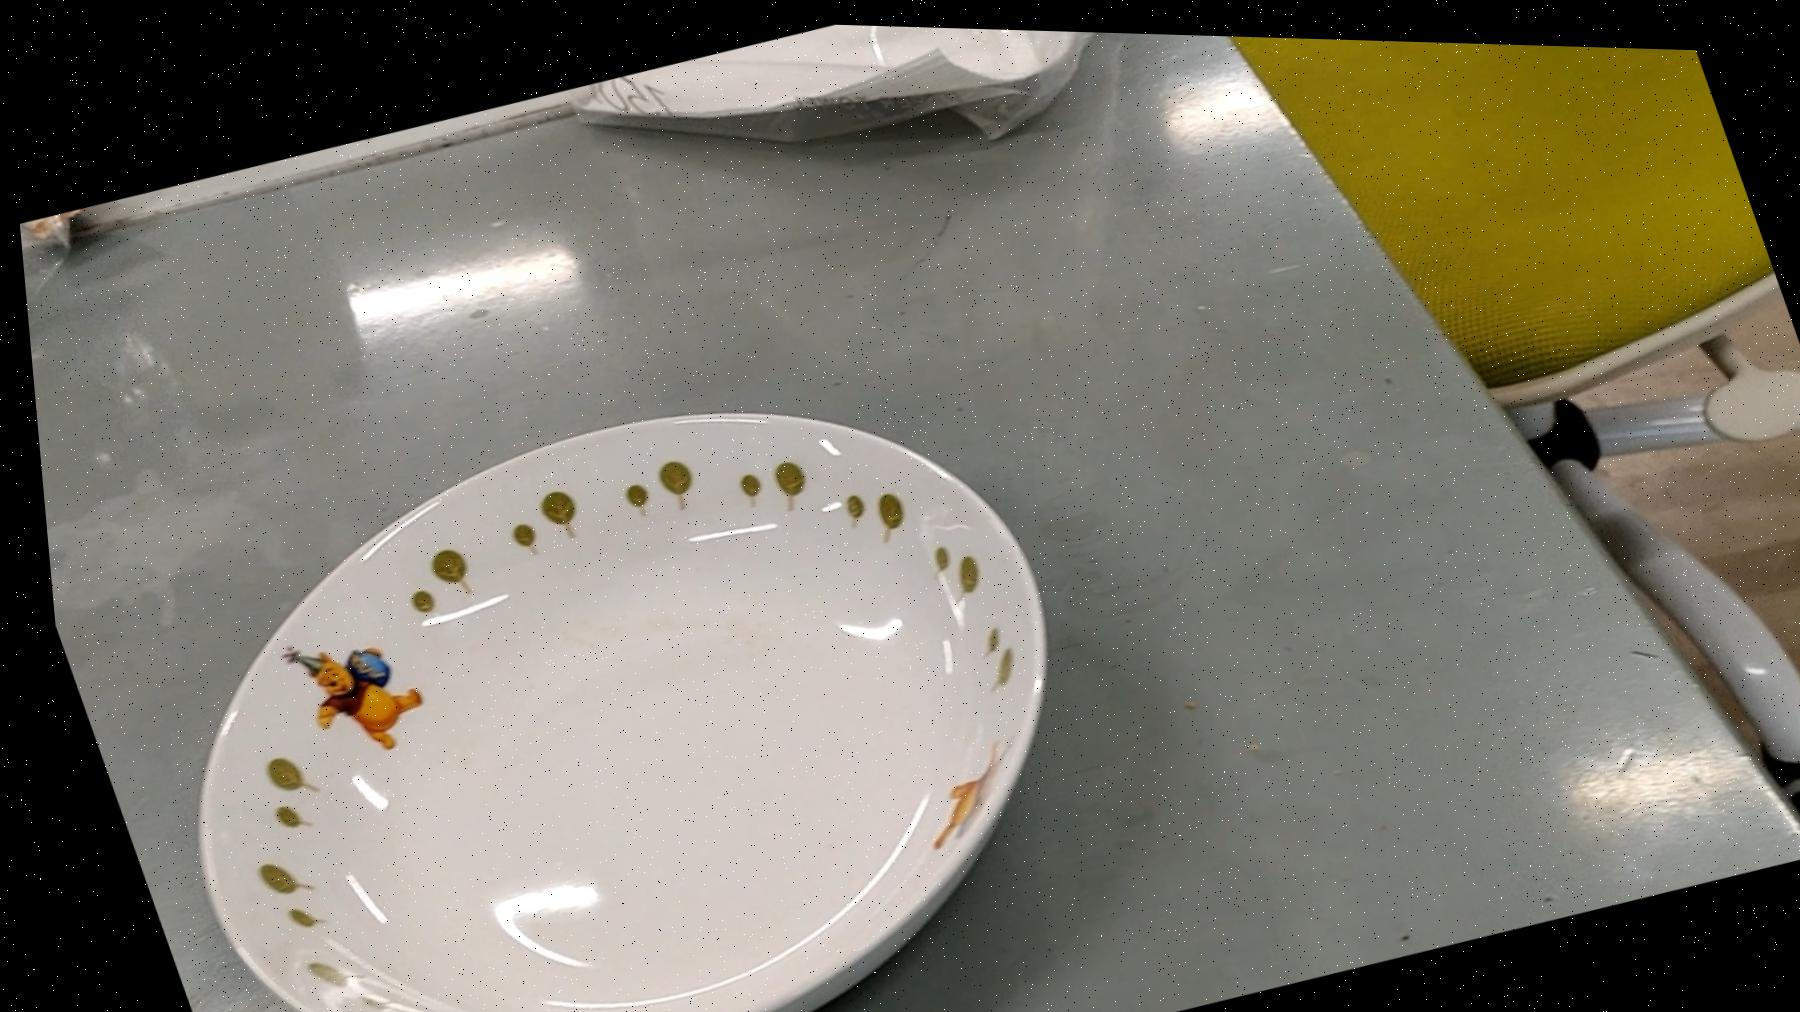plate: (59, 315, 1146, 1012)
